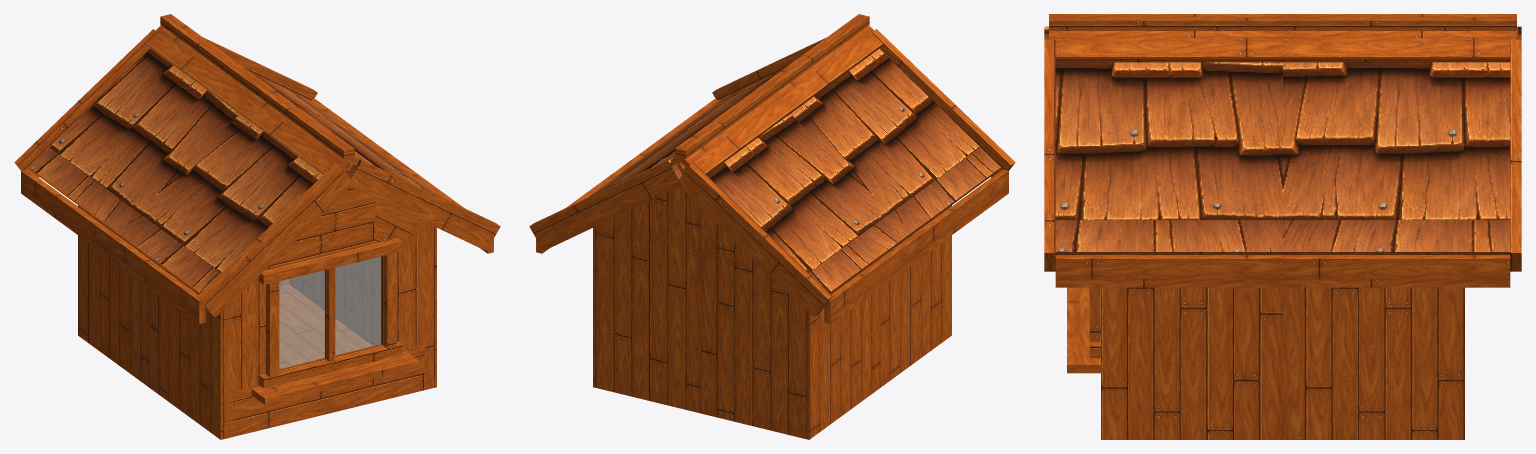
The model's file is Roof_Dormer.fbx.
The picture shows the model from 3 angles, left to right: view 1: azimuth 30°, elevation 25°; view 2: azimuth 150°, elevation 25°; view 3: azimuth 270°, elevation 25°; orthographic projection. The views are drawn at different scales.
Visible parts, largest first — view 1: Roof_Dormer; view 2: Roof_Dormer; view 3: Roof_Dormer.
Boxes of the visible parts, x1,y1,x2,y2 form: Roof_Dormer: (14,14,500,439); Roof_Dormer: (529,14,1015,439); Roof_Dormer: (1044,14,1521,439).
Size of the model in its own units: 1.94 by 1.73 by 2.1.
